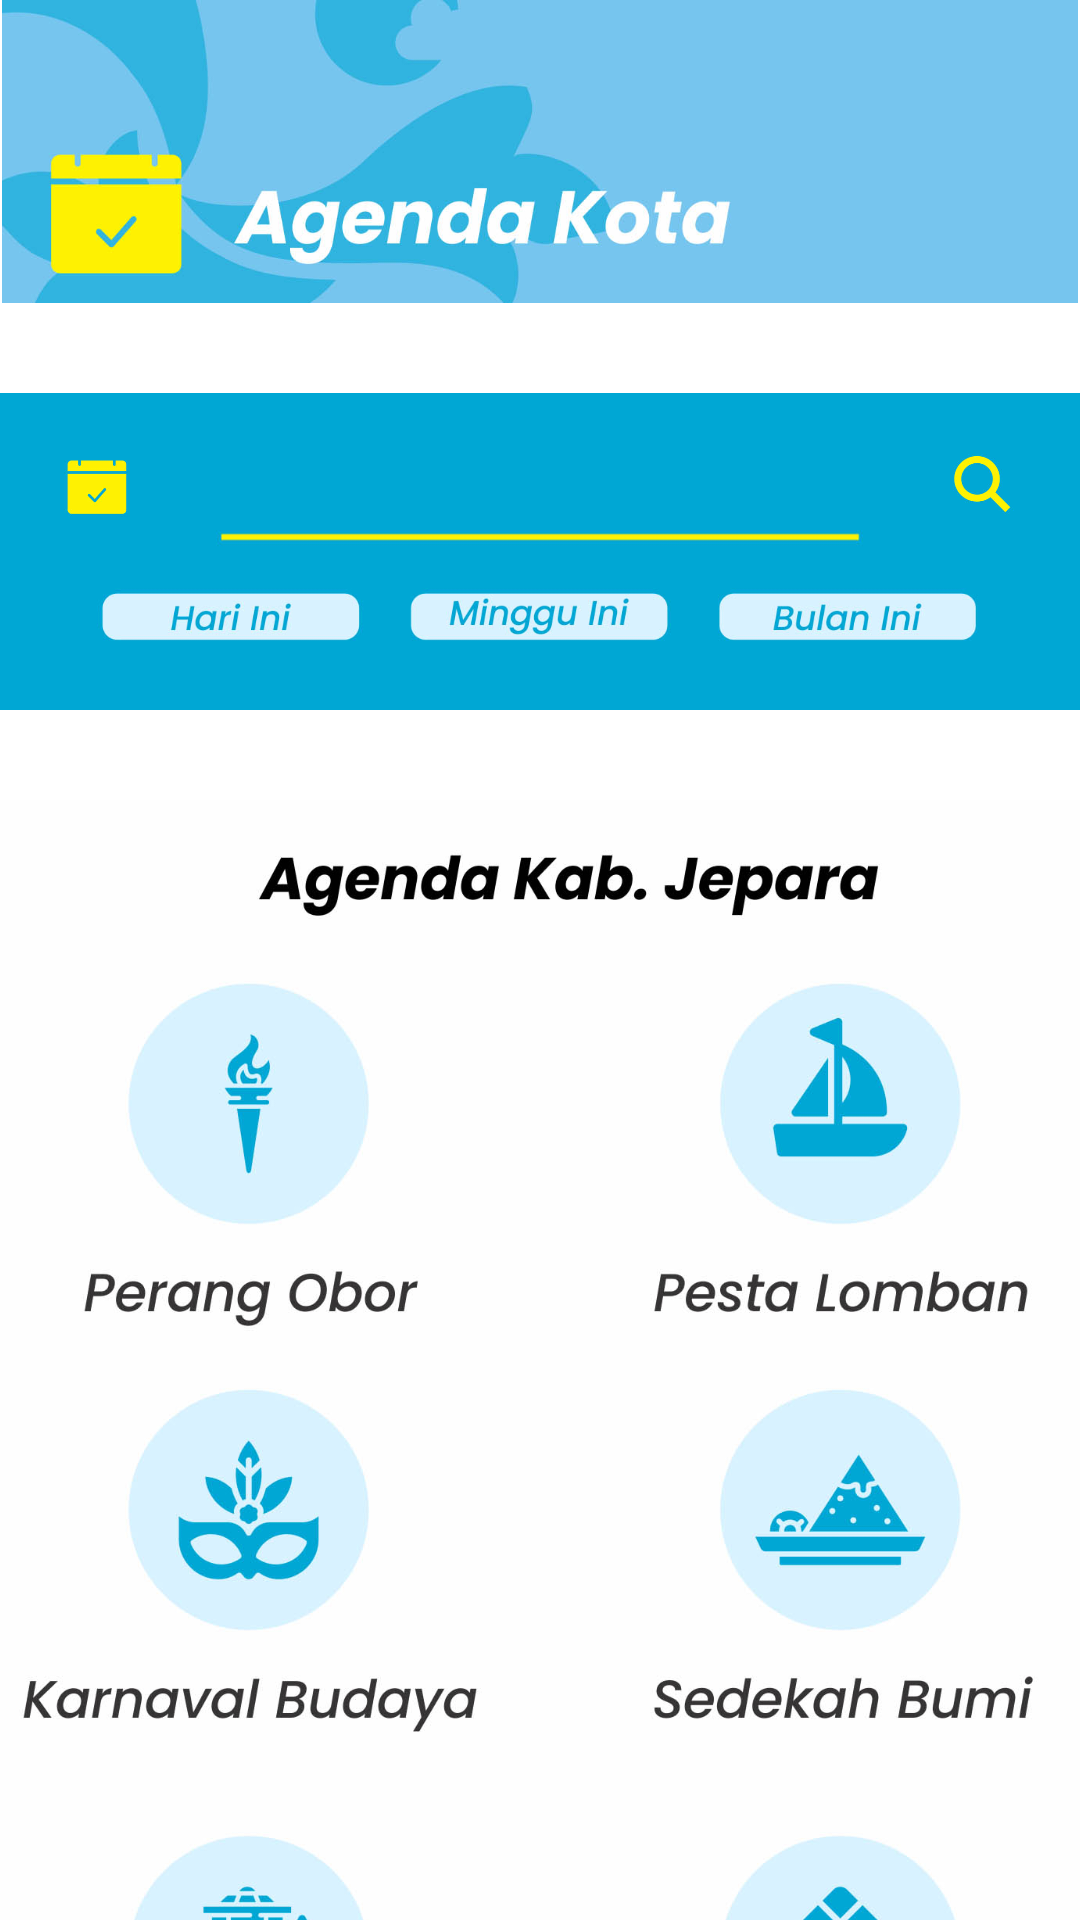

Where to tap for icons on this 1080×1920 app screen, as [x,y]:
search: [982,483]
